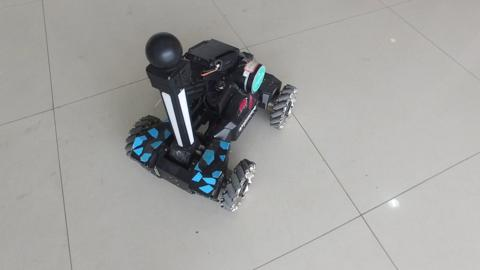chariot: (116, 28, 278, 204)
